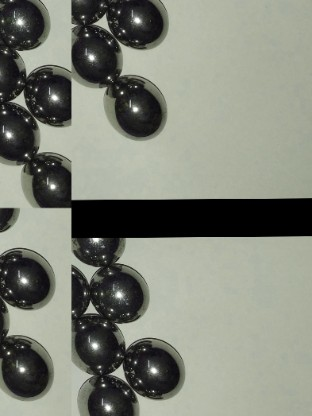ironball: (103, 72, 172, 139), (123, 338, 189, 401), (101, 0, 179, 51), (0, 241, 56, 309), (1, 330, 52, 401), (92, 261, 154, 319), (18, 61, 71, 127), (71, 313, 126, 371), (73, 23, 122, 86), (74, 371, 145, 414), (0, 0, 57, 53), (0, 101, 46, 163), (21, 150, 69, 203), (0, 46, 31, 101), (72, 235, 125, 267), (68, 0, 111, 25)
